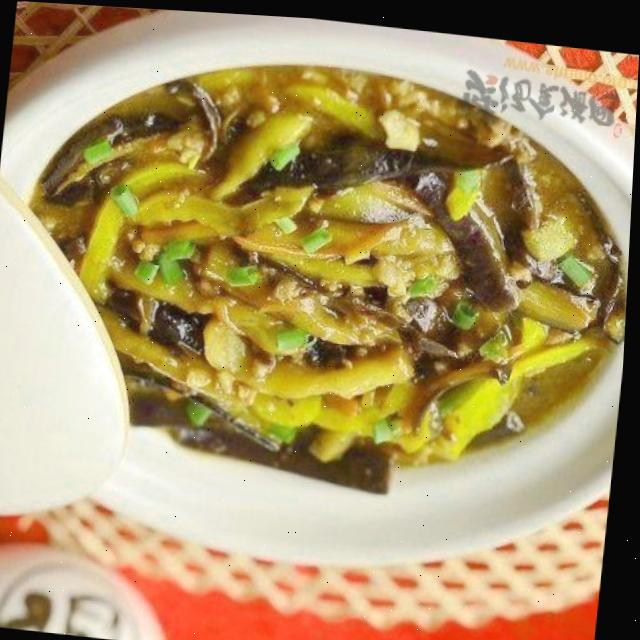鸡蛋料理: (25, 11, 629, 573)
